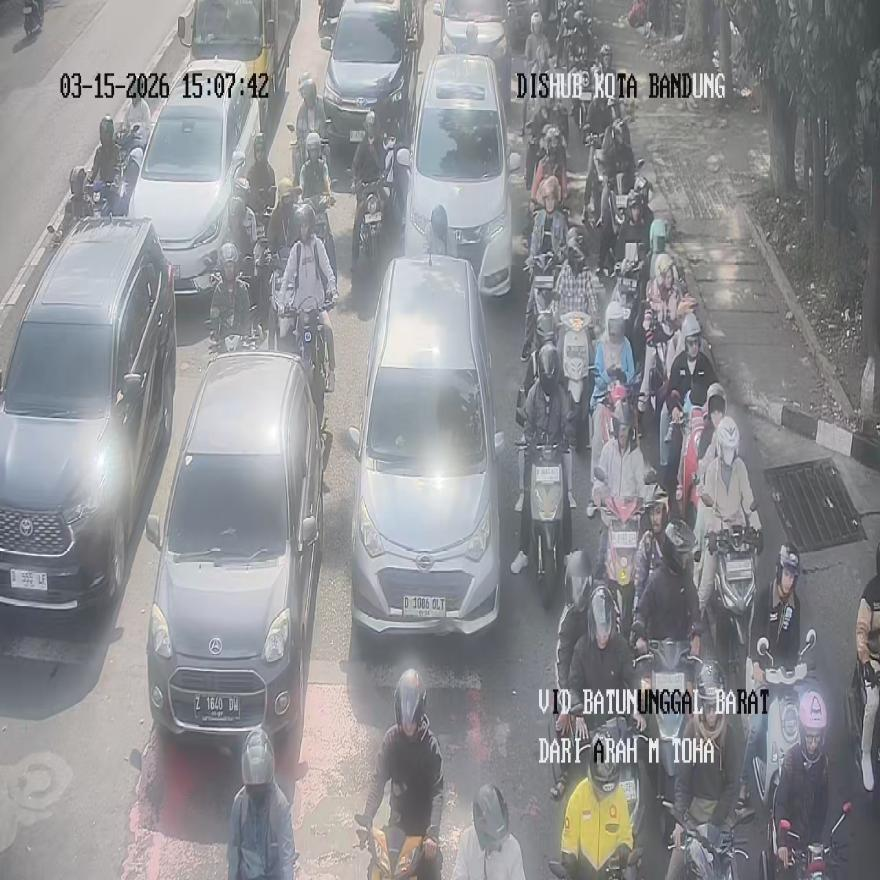Motor: (145, 348, 327, 743), (0, 216, 176, 616), (348, 254, 504, 639), (126, 56, 262, 295), (402, 52, 522, 295), (177, 0, 298, 128), (320, 0, 422, 145)
Truk: (549, 695, 646, 879), (743, 628, 816, 815), (636, 639, 698, 801), (701, 524, 759, 696), (519, 435, 569, 603), (278, 285, 334, 431), (662, 799, 750, 880), (763, 802, 851, 880), (350, 137, 399, 275), (597, 492, 642, 636), (355, 814, 439, 880), (845, 657, 880, 809), (522, 250, 556, 360), (547, 843, 642, 880), (352, 177, 386, 276), (22, 0, 43, 38)
